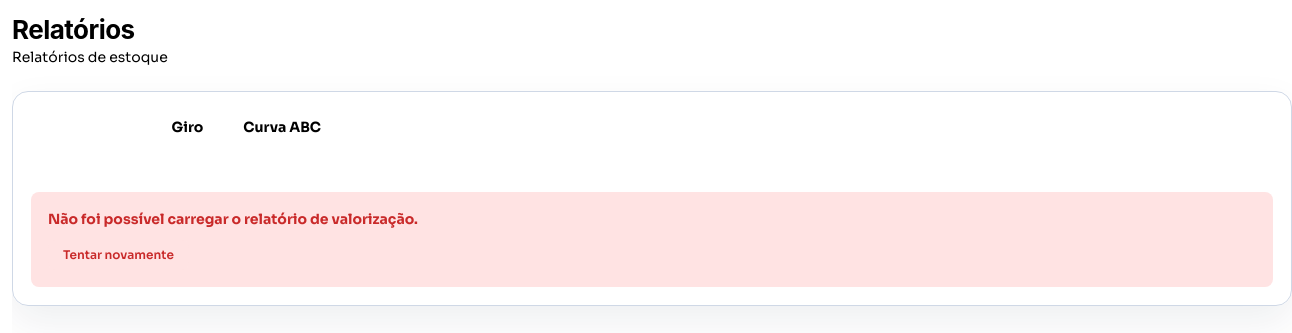
Relatórios states › error, then retry recovers
Check: the text "Não foi possível carregar o relatório de valorização." is shown, box [48,209,418,230]
Click the button "Tentar novamente" at (118, 255), box [48,240,189,270]
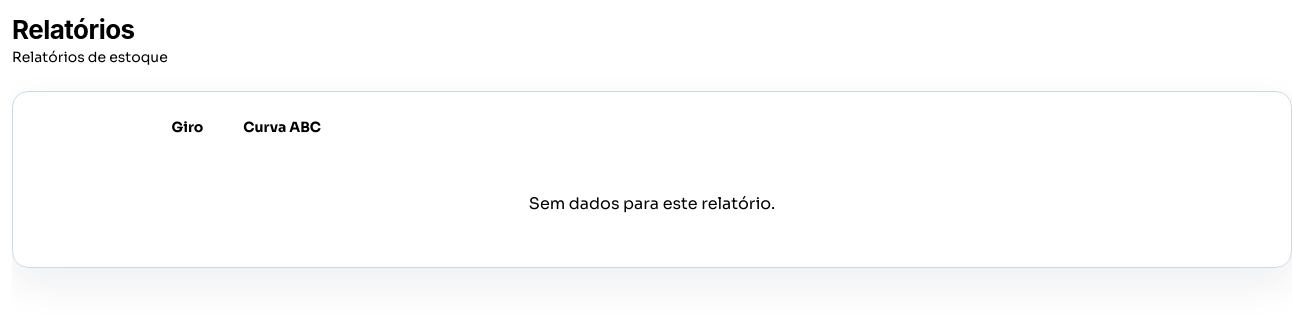
Check: the text "carregar o relatório de valorização" is gone
Check: the text "Sem dados para este relatório." is shown, box [529,193,775,214]
